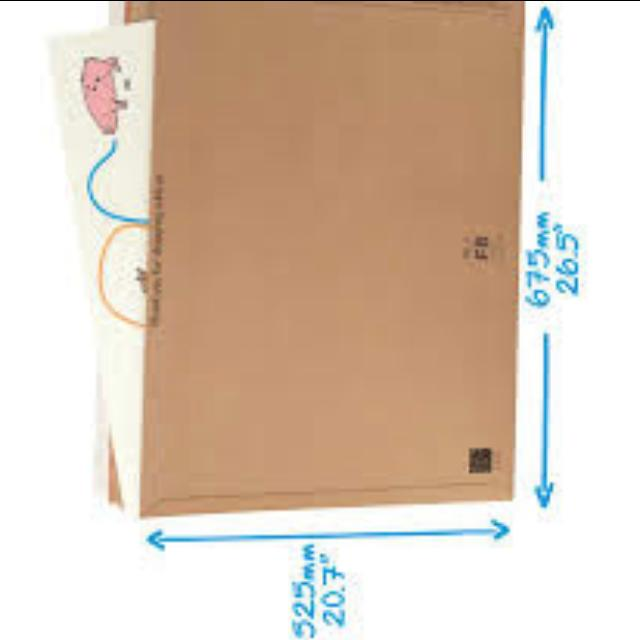cardboard paper: (121, 0, 516, 519)
